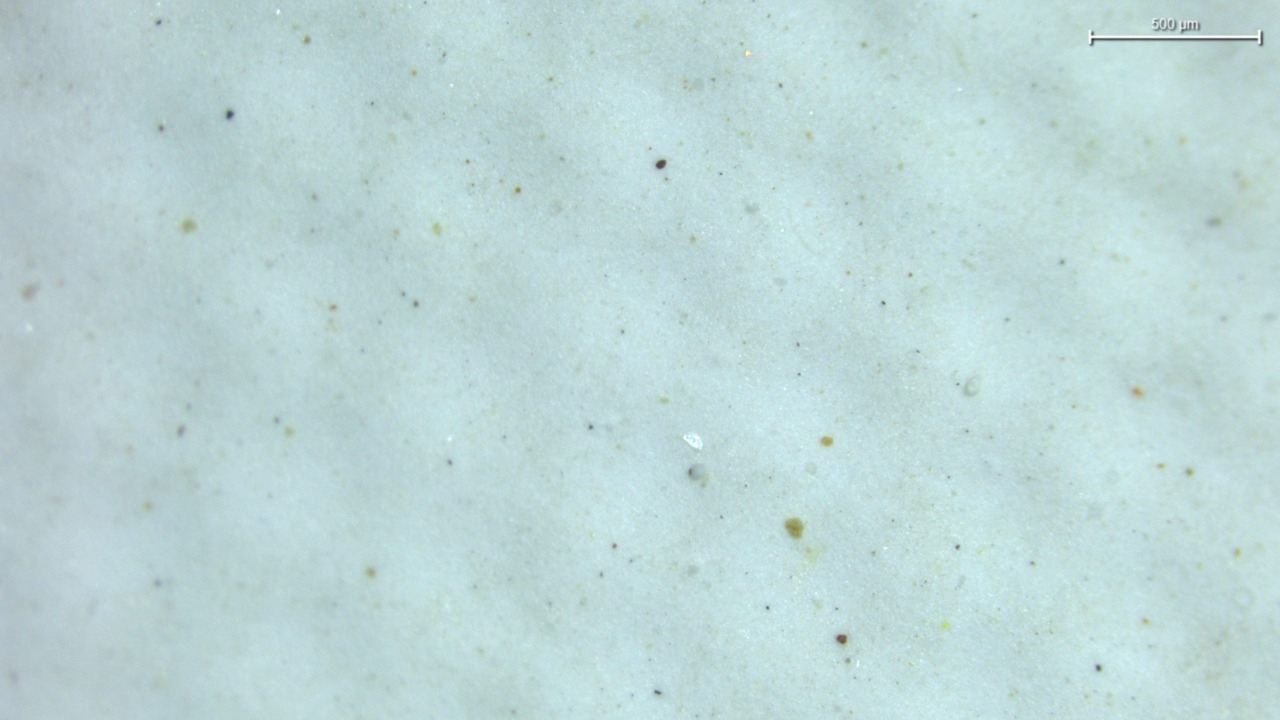microplastic_fragment: (683, 433, 703, 449)
